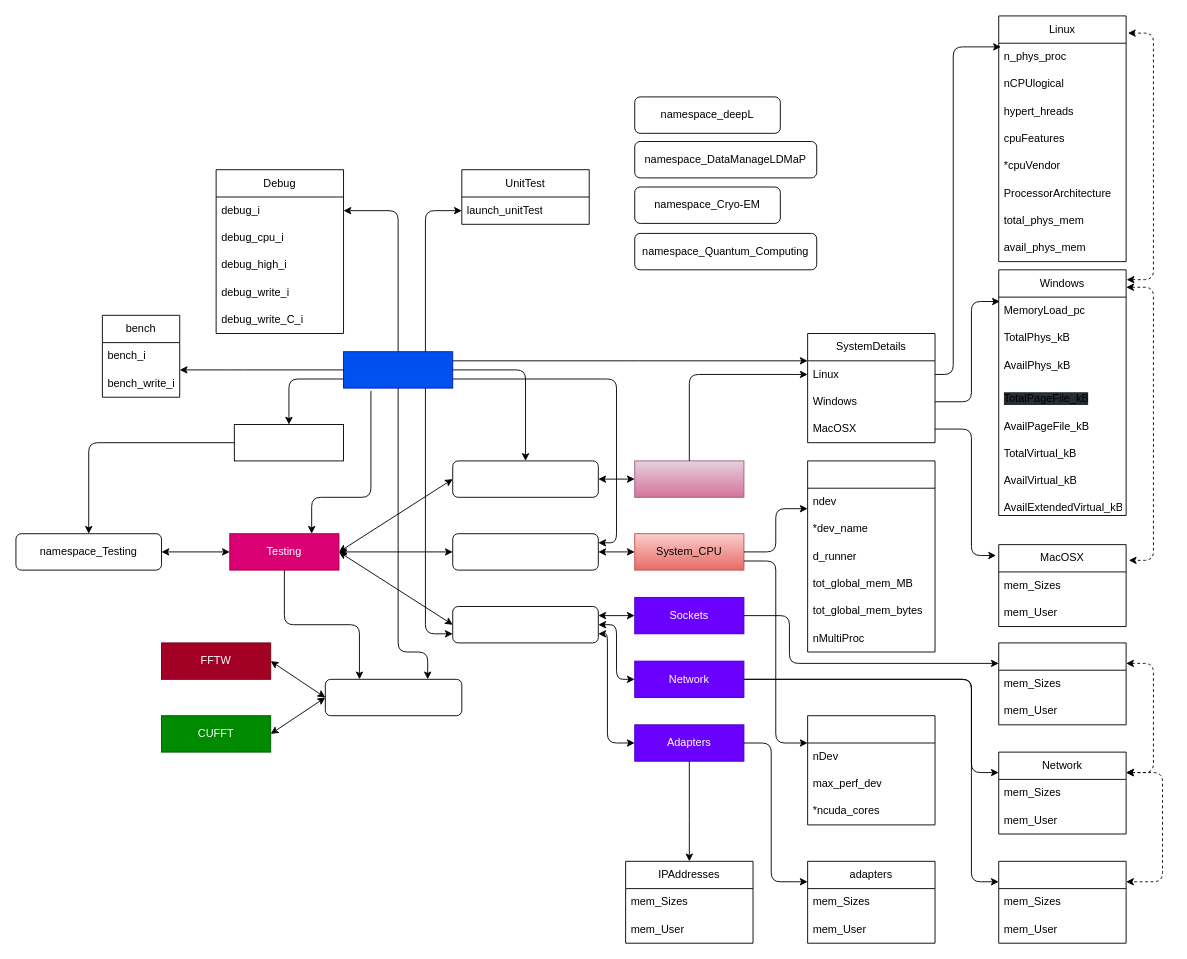
Image size: 1187x959. Some labels were removed from this diagram. Here are the shapes that lost their labels. From the top down, the box of each, then its label:
(343, 351, 453, 388): Global
(233, 424, 344, 461): Main & Driver code
(452, 460, 598, 497): namespace_System_cpu
(634, 460, 744, 497): System_GPU
(452, 533, 598, 570): namespace_System_gpu
(807, 460, 935, 652): deviceDetails (CUDA)
(452, 606, 598, 643): namespace_Network
(324, 678, 462, 716): namespace_Computing
(998, 642, 1126, 725): Socket
(807, 715, 935, 825): Devices
(998, 860, 1126, 943): machine
